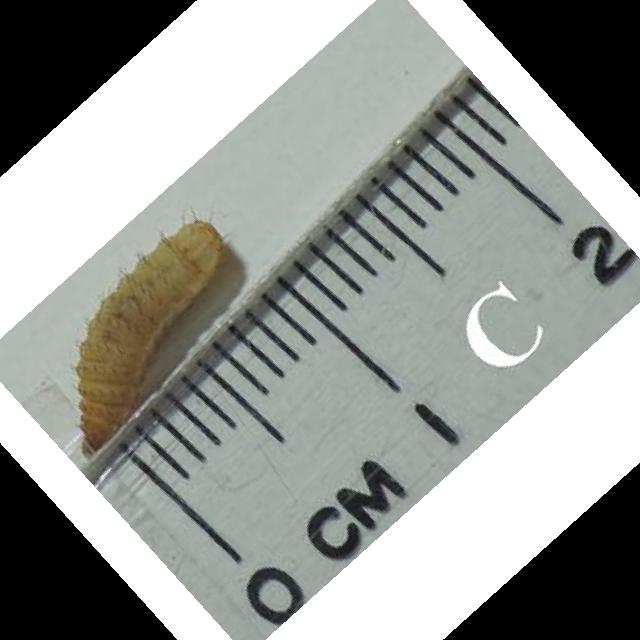Maggot: (73, 216, 232, 459)
